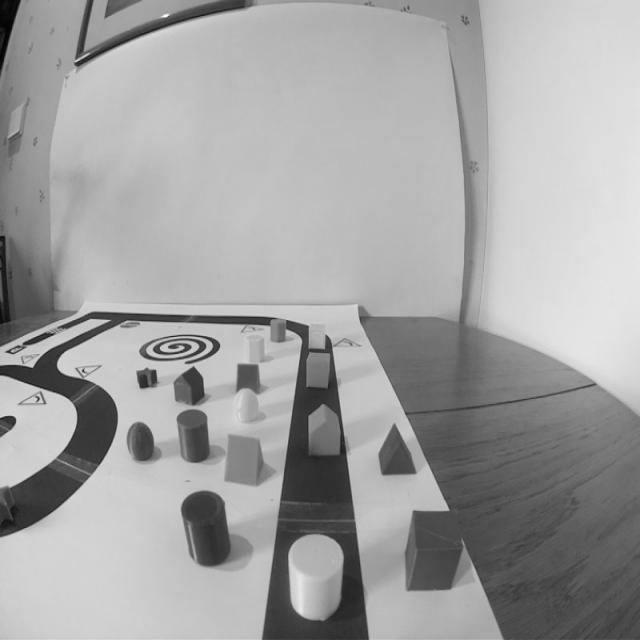ball: (124, 418, 157, 465), (230, 384, 262, 429)
cube: (401, 502, 466, 598), (302, 348, 335, 392), (306, 317, 330, 352)
cylinder: (285, 528, 345, 623), (178, 486, 238, 572), (174, 404, 213, 466)
hexagon: (241, 329, 269, 365), (268, 314, 289, 345)
home: (305, 399, 344, 460), (171, 362, 208, 411)
lineStraight: (259, 472, 375, 640)
nest: (136, 329, 226, 369)
star: (133, 362, 161, 393)
triangle: (221, 429, 270, 489), (374, 416, 420, 479), (232, 359, 262, 399)
